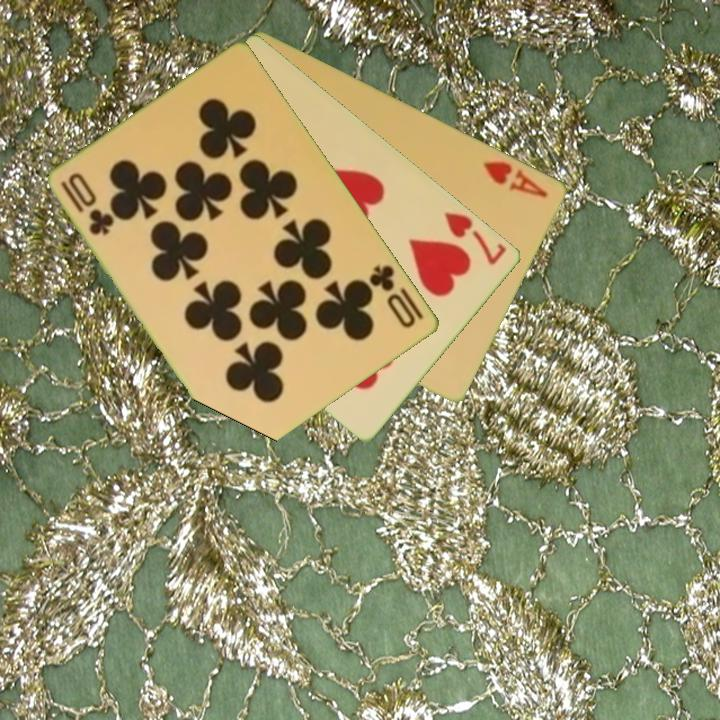10c: (57, 169, 117, 239), (366, 261, 420, 331)
7h: (441, 208, 511, 268)
Ah: (479, 157, 552, 201)
